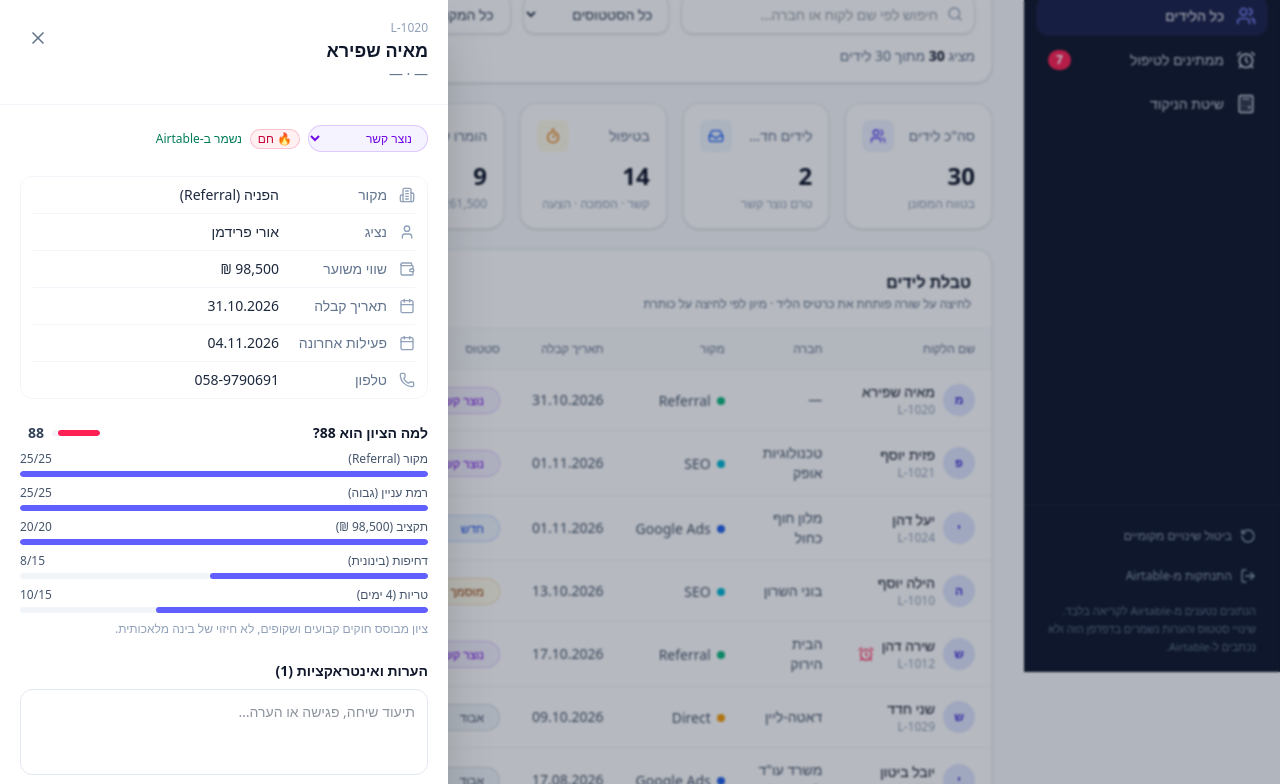
it: useAirtableSync (SPEC X2) › adding a note writes all notes as multi-line text
The image size is (1280, 784).
Earlier steps of the test are not shown.
Later steps or results of the test are not shown.
(page scrolled)
Type "שיחת המשך" into the text box named "הערה חדשה" at {"x": 224, "y": 732}, box [20, 689, 428, 775]
(page scrolled)
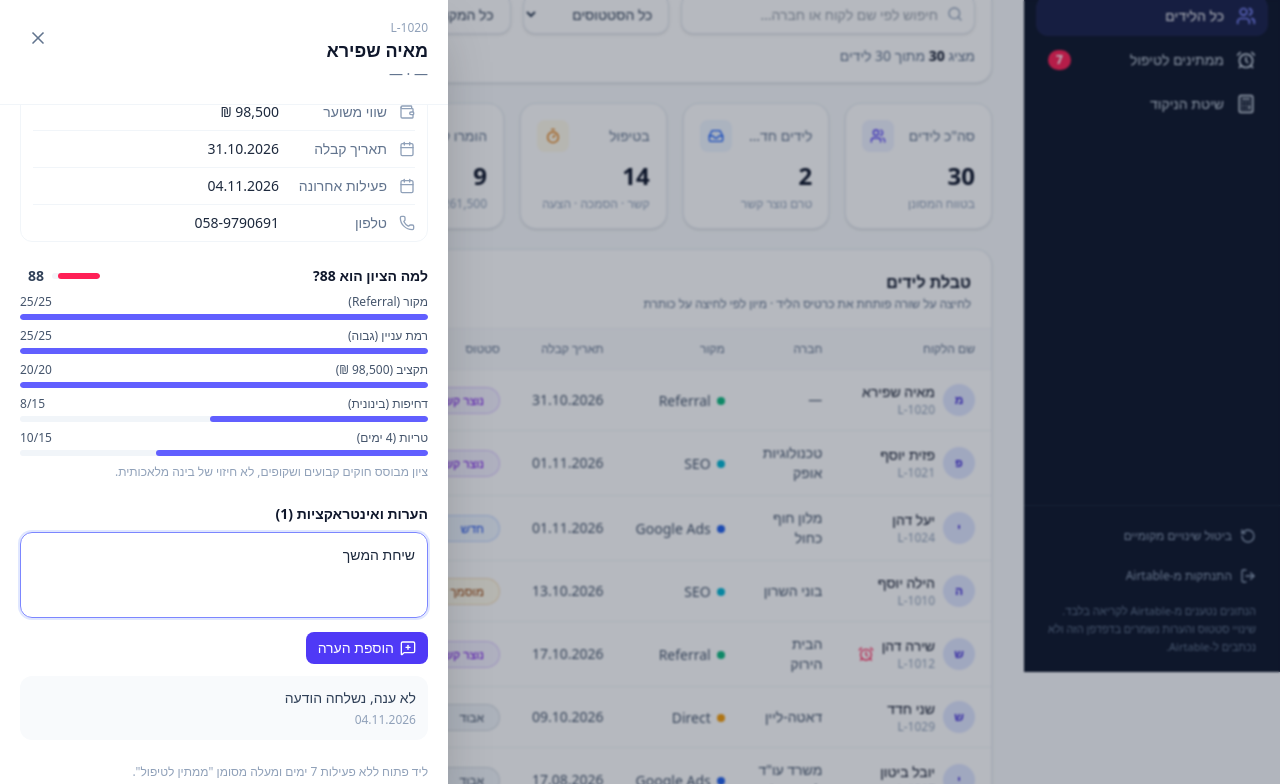
Click the button "הוספת הערה" at {"x": 367, "y": 648}, box [306, 632, 428, 664]
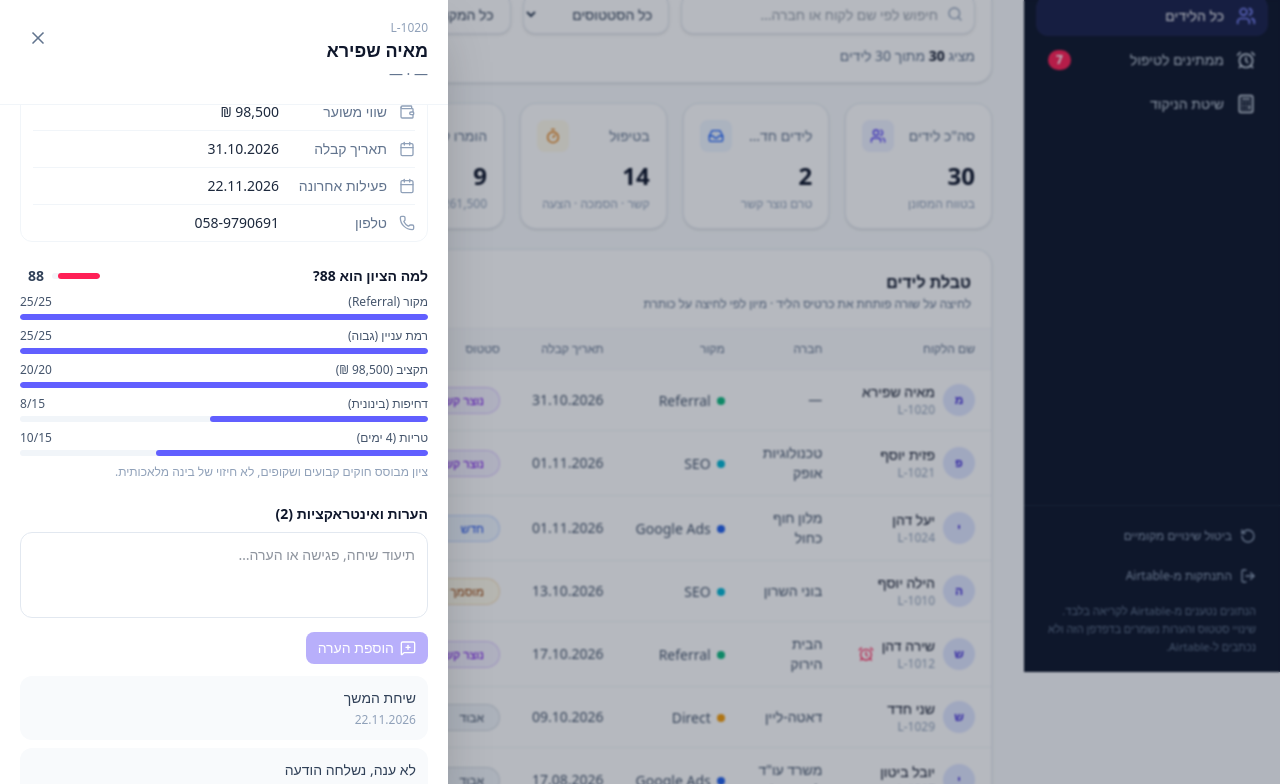
Check: the text "שיחת המשך" is shown, box [344, 688, 416, 707]
